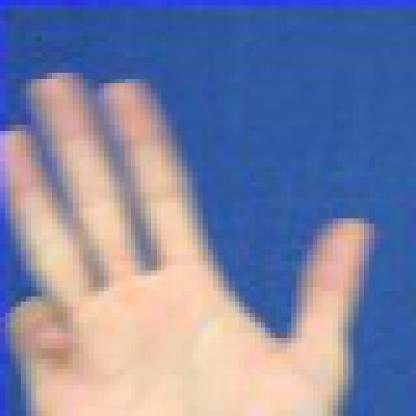nine: (0, 47, 401, 412)
